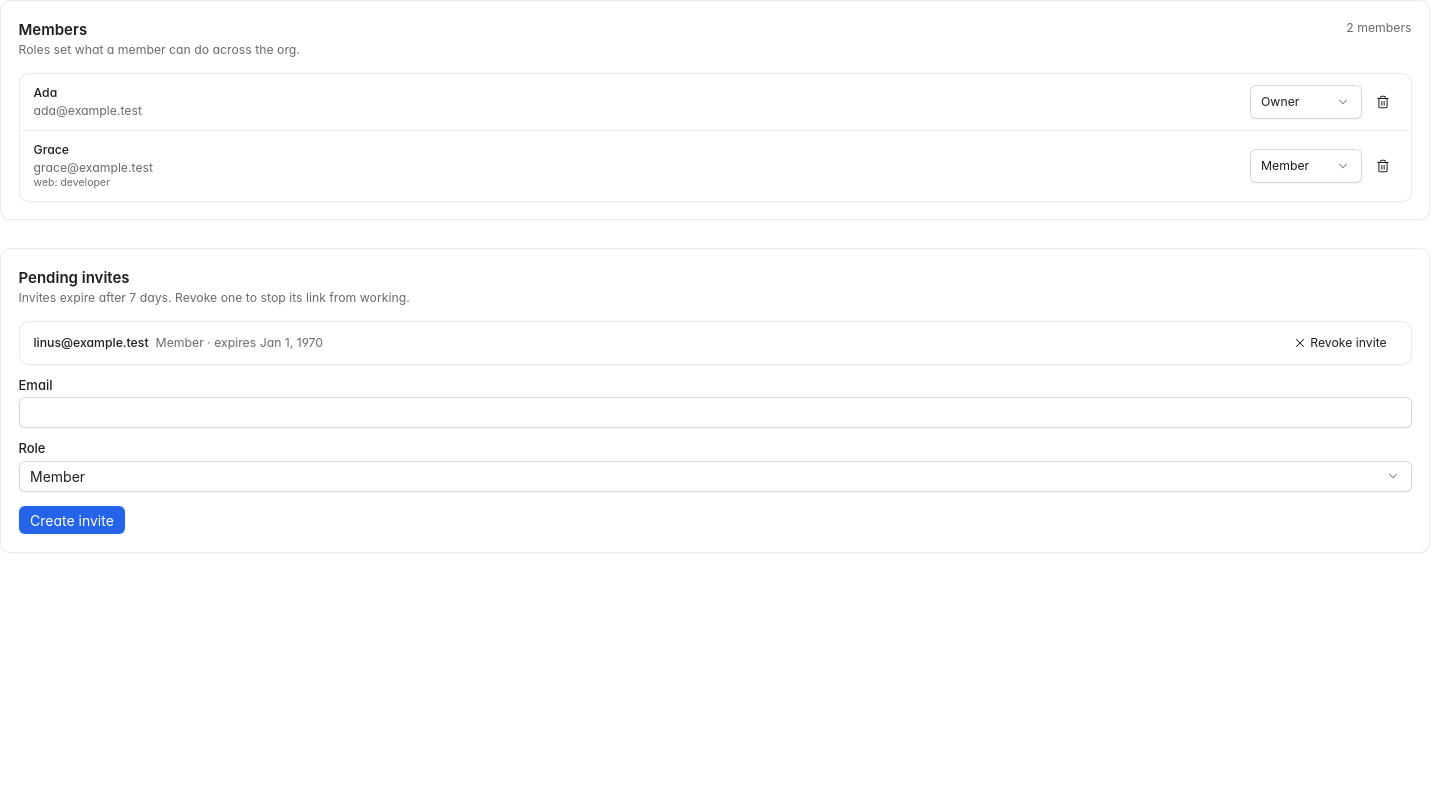
it: MembersPage › pending invites can be revoked
The width and height of the screenshot is (1440, 810).
Check: the text "linus@example.test" is shown, box left=34, top=335, right=149, bottom=350
Click the button with aria-label "Revoke invite for linus@example.test" at (1340, 343), box left=1283, top=330, right=1396, bottom=355
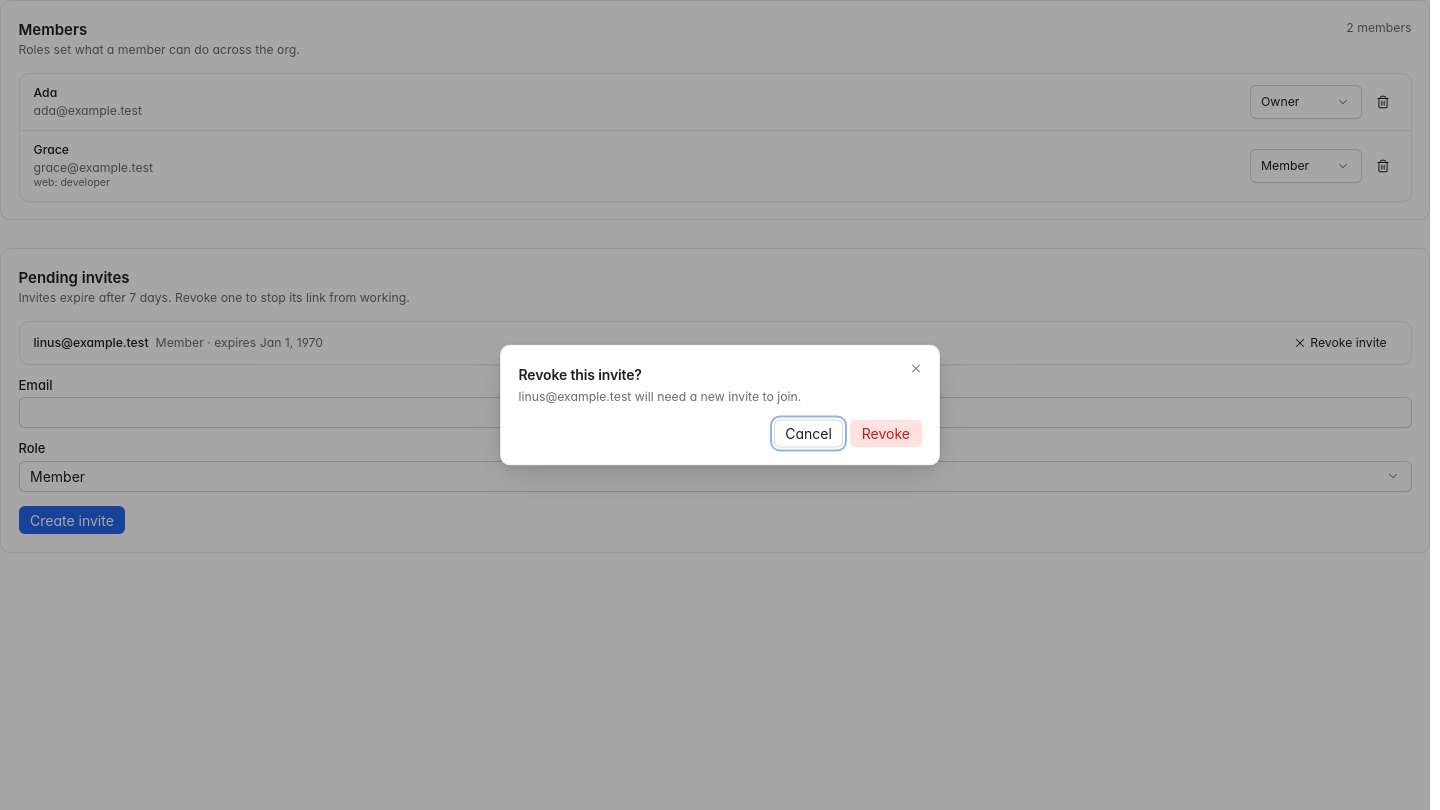
Click the button "Revoke" at (886, 433), box left=850, top=419, right=922, bottom=447
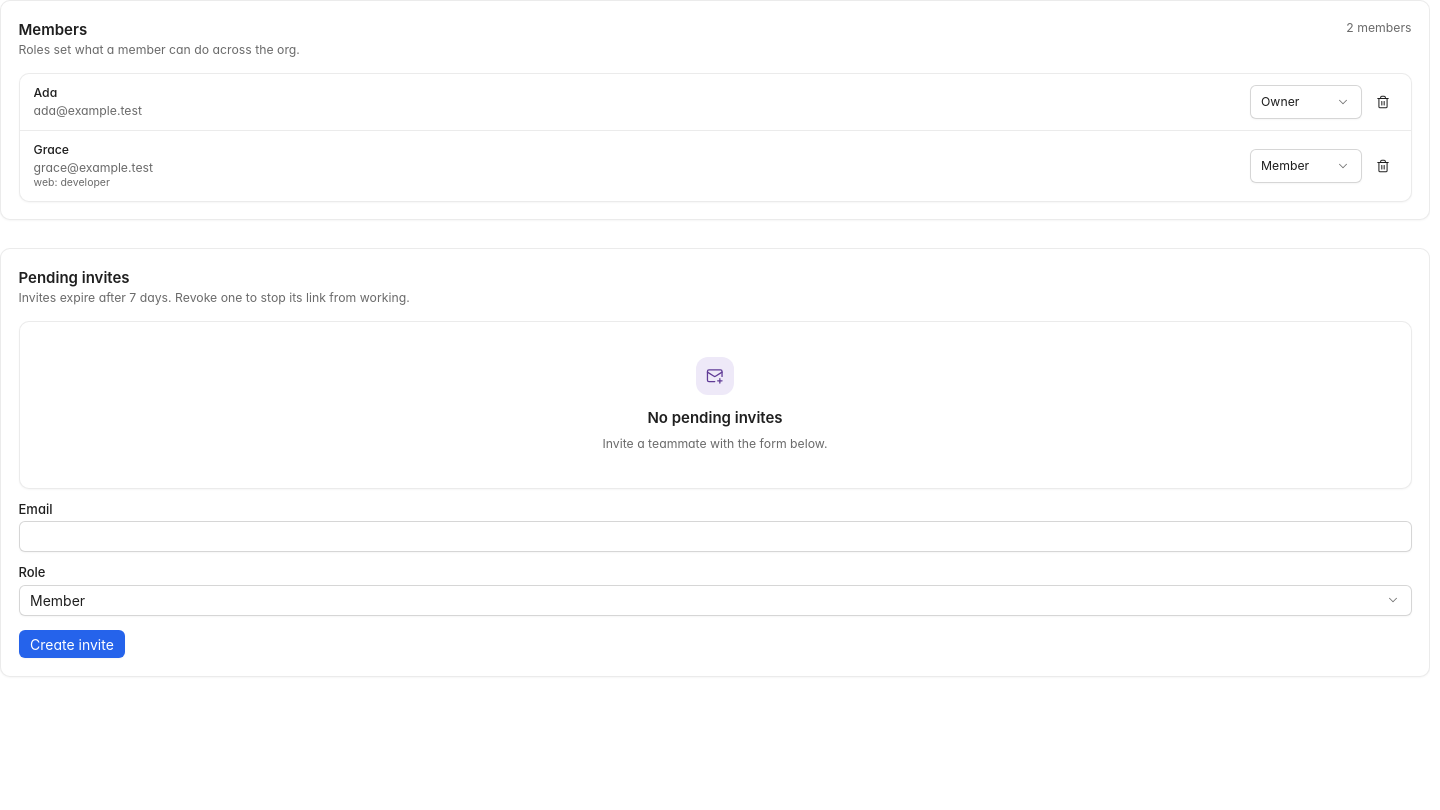
Check: the text "linus@example.test" is gone
